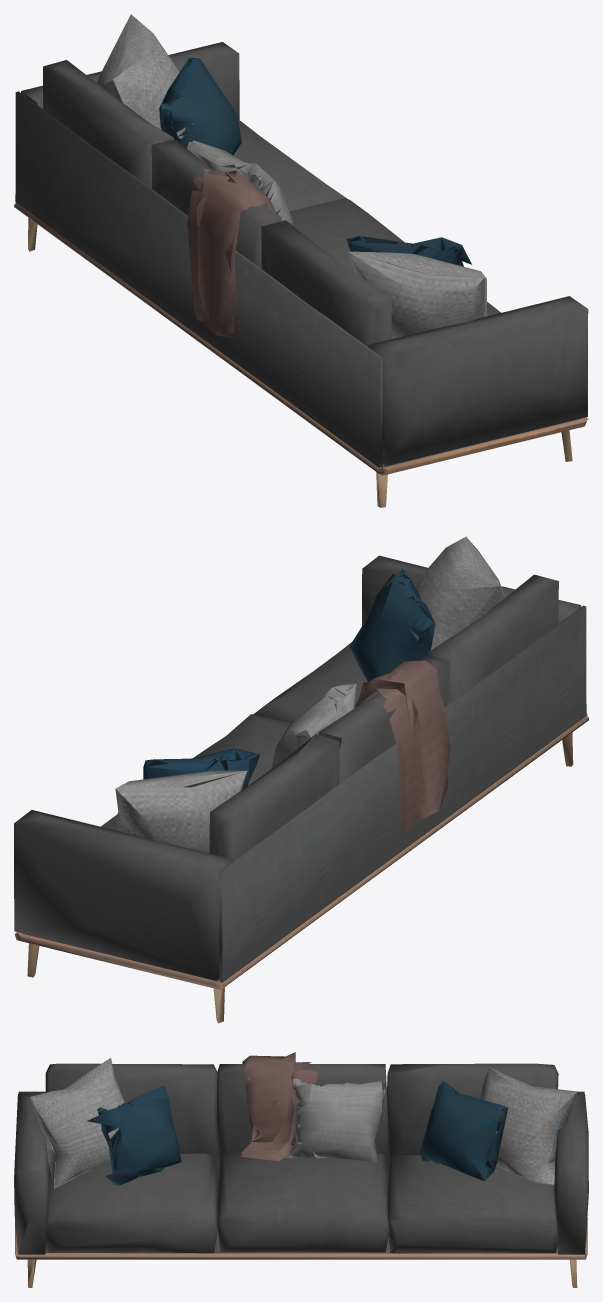
File: M_Sofa0001.obj
The picture shows the model from 3 angles, top to bottom: view 1: azimuth 30°, elevation 25°; view 2: azimuth 150°, elevation 25°; view 3: azimuth 270°, elevation 25°; orthographic projection. The views are drawn at different scales.
Bounding box in the file's own units: 0.86 × 0.791 × 2.5.
Materials: 1 (1 with a texture image).
